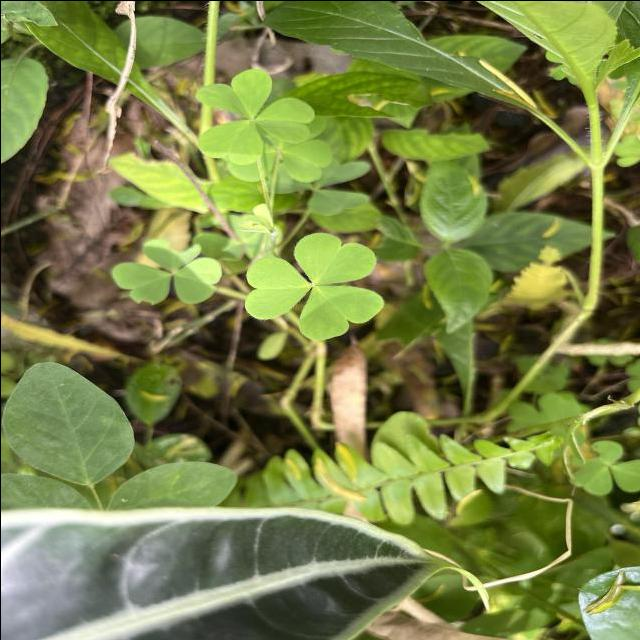Oxalis corniculata: (242, 231, 384, 342), (192, 68, 315, 166), (110, 237, 223, 306)
